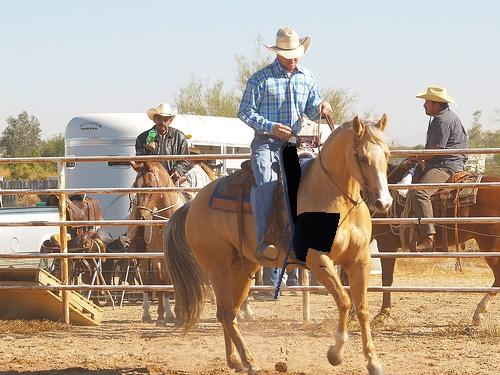tampered: (275, 142, 340, 299)
